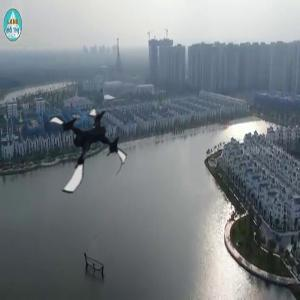drone: (36, 103, 131, 198)
